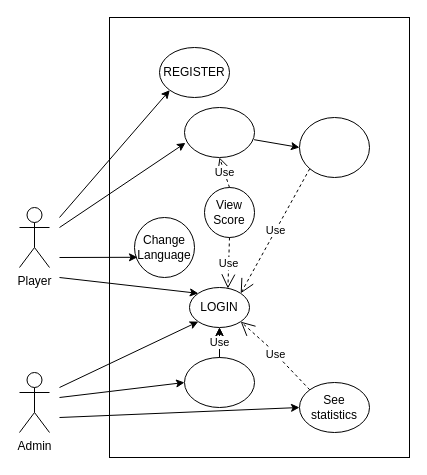
Image size: 427x475. Some labels were removed from this diagram. The shapes that lost their labels are listed below. From the top down, each one's centre as x and y in pixels, then its label:
point (219, 132): PLAY GAME
point (334, 147): Save Game To DB
point (219, 382): CRUD Operations
